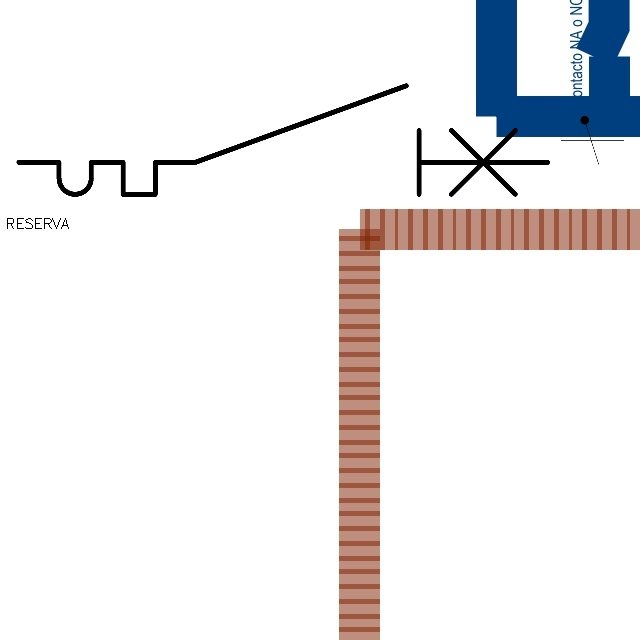interruptor_termomagnetico: (5, 72, 561, 208)
